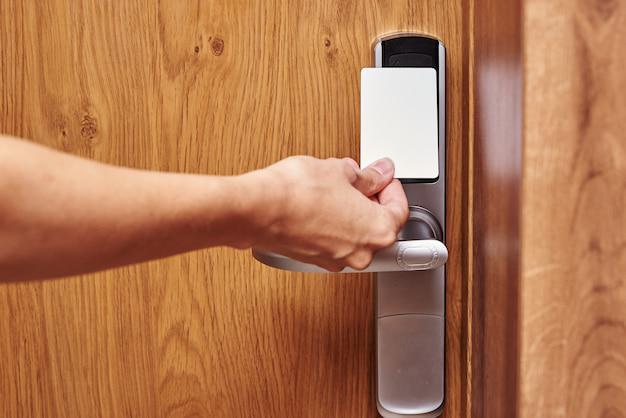doorhandle: (230, 170, 480, 310)
